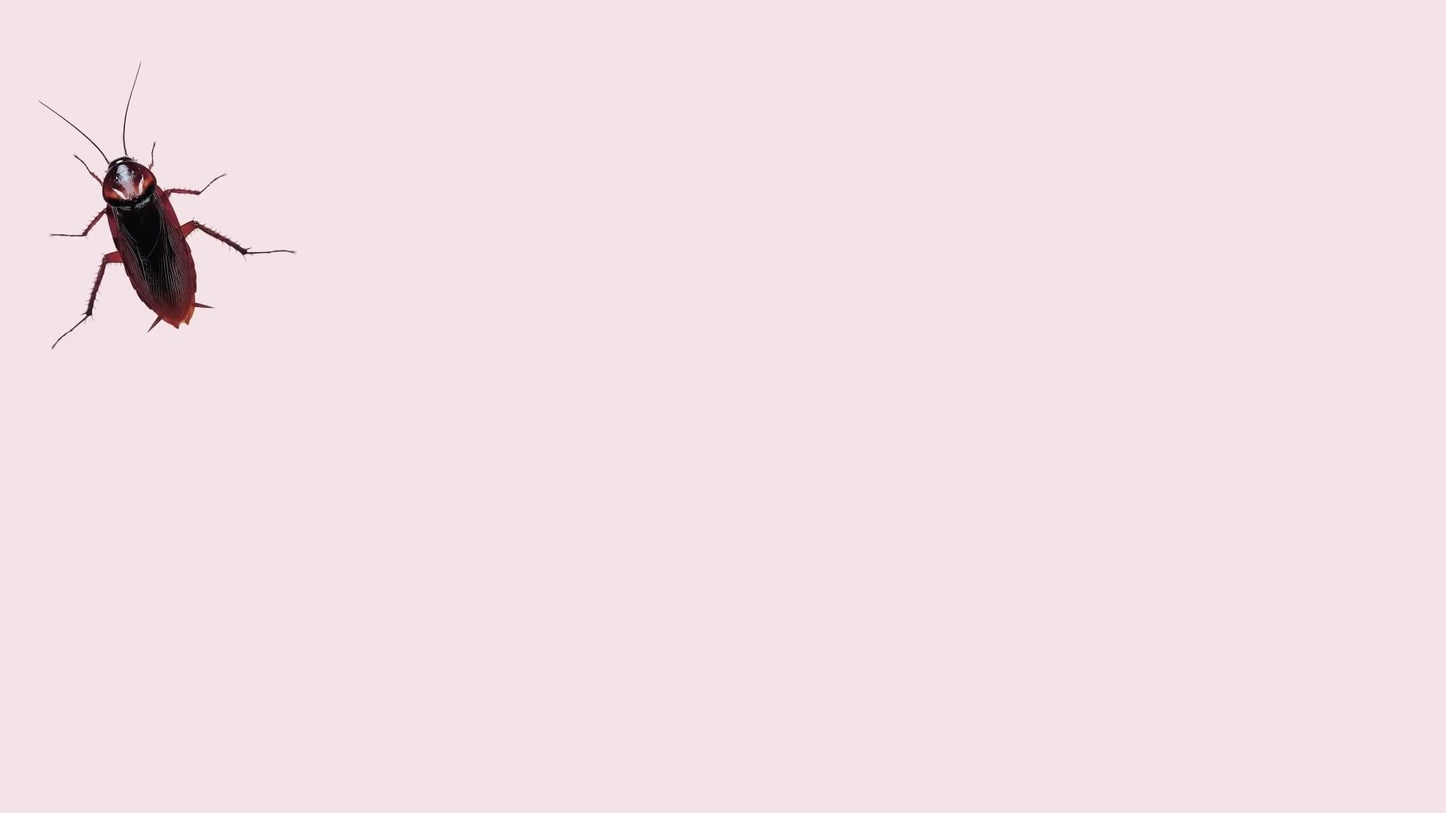cockroach: (34, 78, 295, 354)
